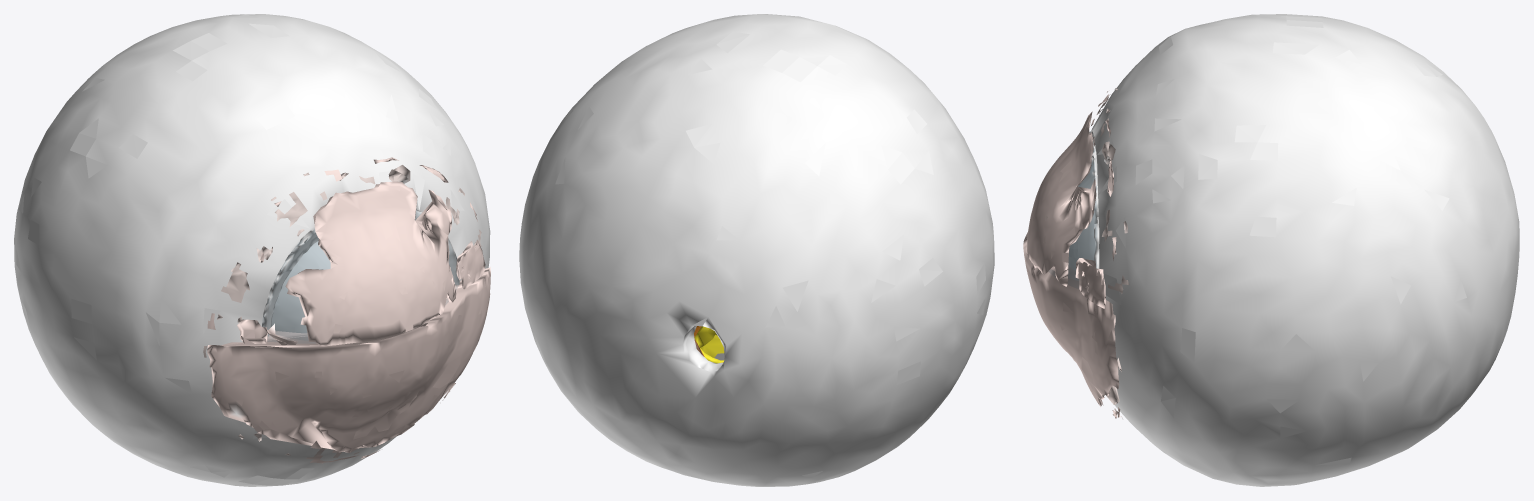
Rendered from 3d-vh-m-eye-l-40.fbx.
3 views of the same model, side by side, from view 1: azimuth 30°, elevation 25°; view 2: azimuth 150°, elevation 25°; view 3: azimuth 270°, elevation 25° (orthographic).
Parts seen in each view (by area): view 1: VH_M_sclera_L, VH_M_palpebral_conjunctiva_of_lower_eyelid_L, VH_M_palpebral_conjunctiva_of_upper_eyelid_L, VH_M_cornea_L, VH_M_bulbar_conjunctiva_L, VH_M_aqueous_humor_L, VH_M_corneo_scleral_junction_L; view 2: VH_M_sclera_L, VH_M_optic_disc_L; view 3: VH_M_sclera_L, VH_M_palpebral_conjunctiva_of_upper_eyelid_L, VH_M_palpebral_conjunctiva_of_lower_eyelid_L, VH_M_cornea_L, VH_M_aqueous_humor_L, VH_M_bulbar_conjunctiva_L, VH_M_corneo_scleral_junction_L.
Part boxes in pixels (<box>): VH_M_sclera_L: <box>14,14,490,486</box>; VH_M_palpebral_conjunctiva_of_lower_eyelid_L: <box>207,267,490,463</box>; VH_M_palpebral_conjunctiva_of_upper_eyelid_L: <box>207,157,485,346</box>; VH_M_cornea_L: <box>262,209,458,343</box>; VH_M_bulbar_conjunctiva_L: <box>203,165,481,459</box>; VH_M_aqueous_humor_L: <box>271,241,330,333</box>; VH_M_corneo_scleral_junction_L: <box>262,210,459,336</box>; VH_M_sclera_L: <box>519,14,994,486</box>; VH_M_optic_disc_L: <box>698,326,724,357</box>; VH_M_sclera_L: <box>1091,14,1519,486</box>; VH_M_palpebral_conjunctiva_of_upper_eyelid_L: <box>1026,90,1116,308</box>; VH_M_palpebral_conjunctiva_of_lower_eyelid_L: <box>1023,232,1120,418</box>; VH_M_cornea_L: <box>1049,149,1097,288</box>; VH_M_aqueous_humor_L: <box>1068,169,1095,270</box>; VH_M_bulbar_conjunctiva_L: <box>1091,88,1129,418</box>; VH_M_corneo_scleral_junction_L: <box>1089,130,1099,268</box>.
Bounding box in the file's own units: 2.45 × 2.44 × 2.57.
